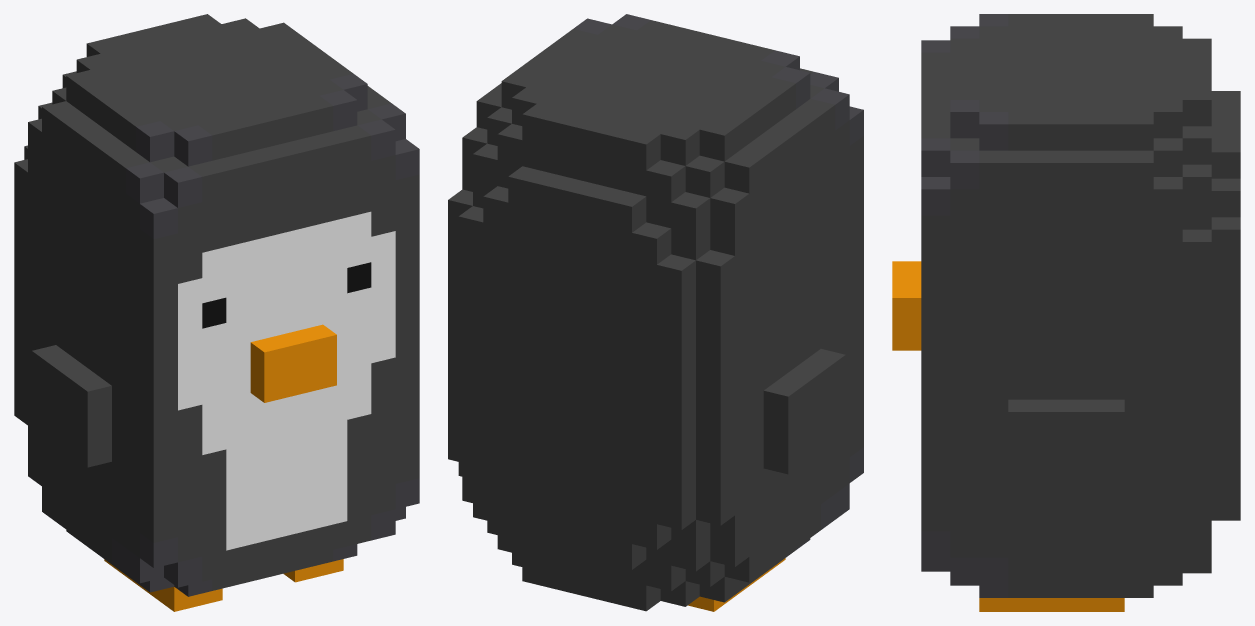
Rendered from pen5.obj.
3 renders of one model, left to right at view 1: azimuth 30°, elevation 25°; view 2: azimuth 150°, elevation 25°; view 3: azimuth 270°, elevation 25°, orthographic. The views are drawn at different scales.
Bounding box in the file's own units: 1.3 × 1.9 × 1.2.
Materials: 1 (1 with a texture image).
